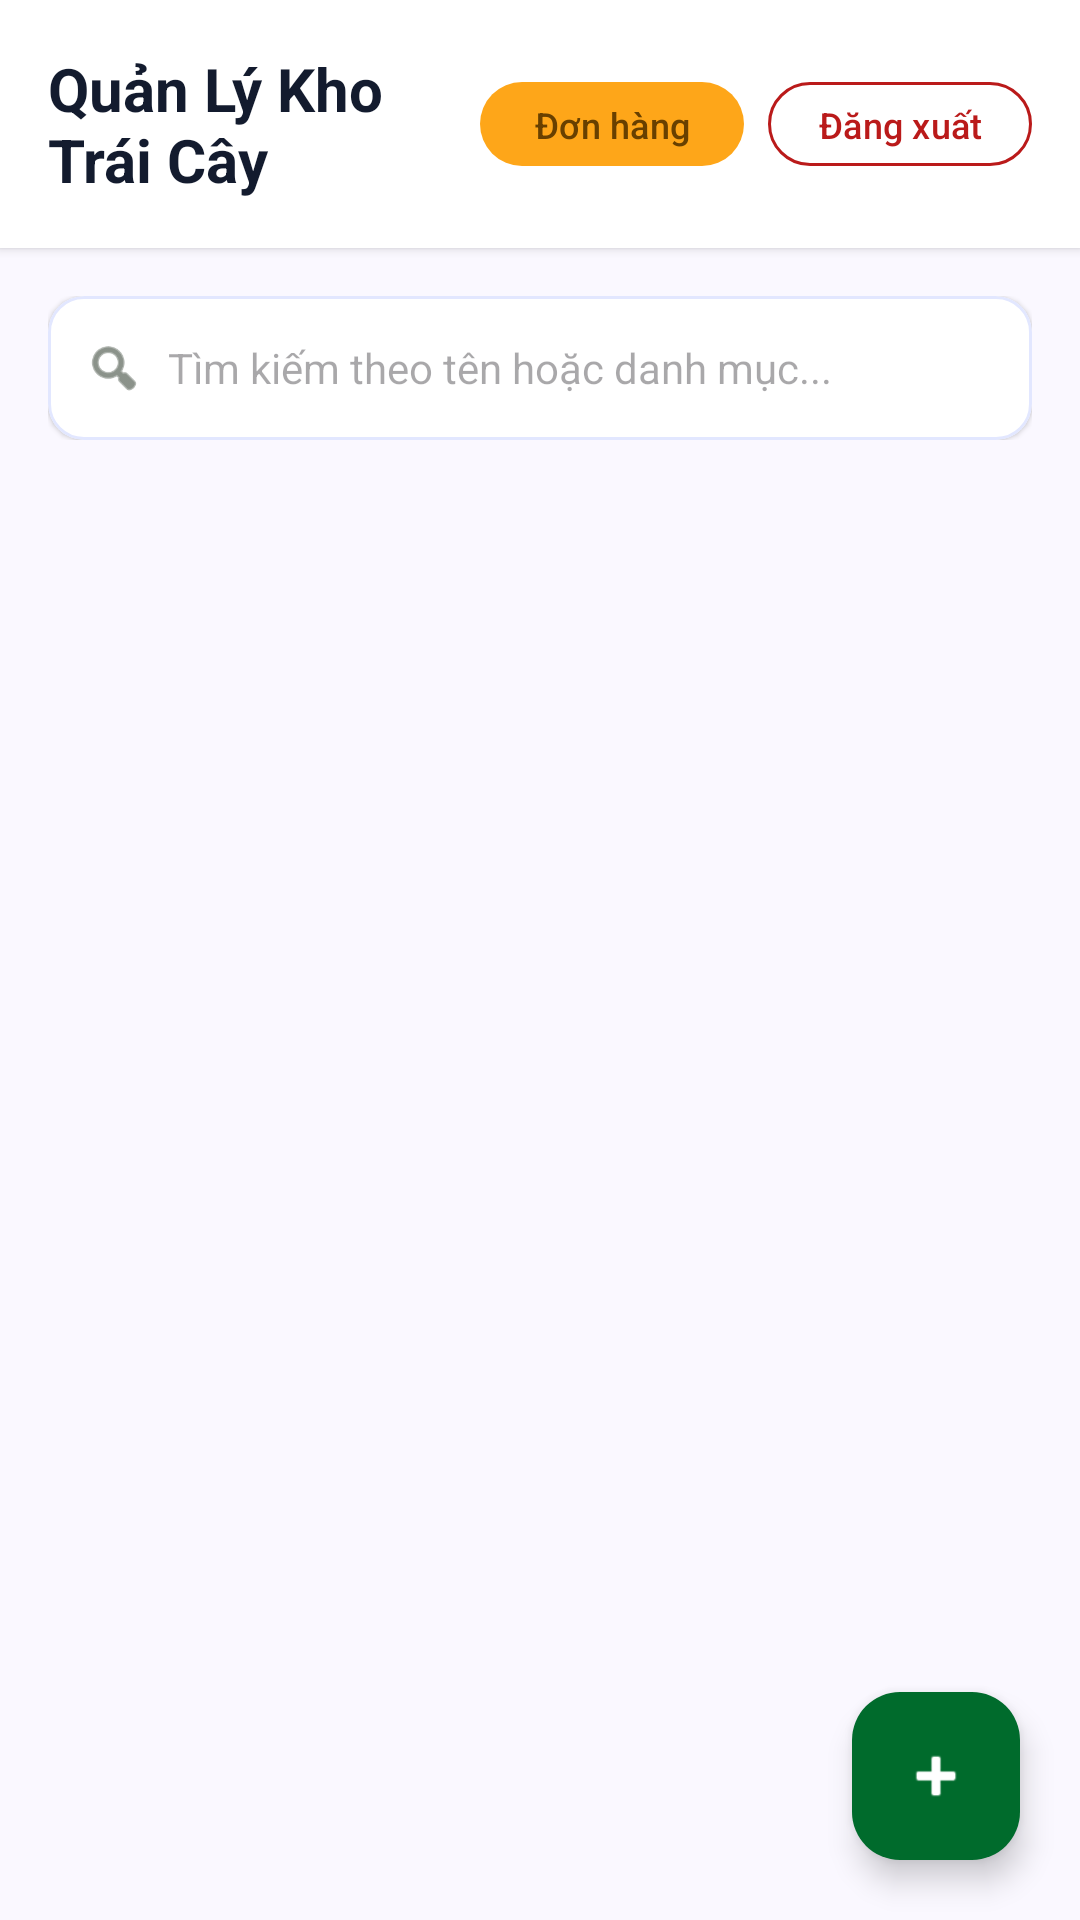

Icons on this 1080px×1920px Android screen, each with its box as [left=x1, top=y1, right=x2, bottom=y2]:
search: [left=92, top=346, right=136, bottom=391]
Thêm mới: [left=852, top=1692, right=1020, bottom=1860]
